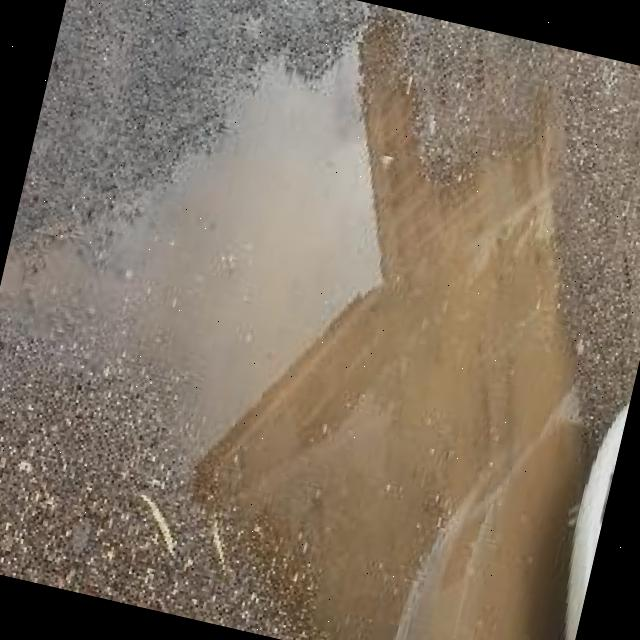stagnation: (0, 45, 587, 640)
